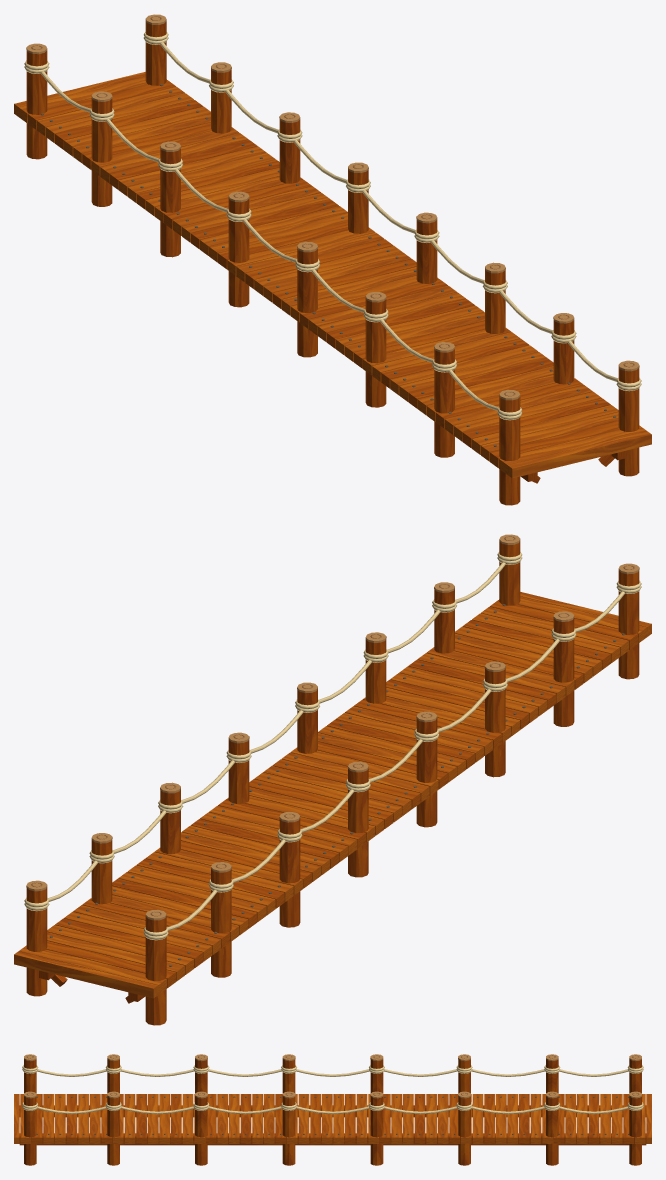
The model's file is wooden-bridge-11.gltf.
3 renders of one model, top to bottom at view 1: azimuth 30°, elevation 25°; view 2: azimuth 150°, elevation 25°; view 3: azimuth 270°, elevation 25°, orthographic. The views are drawn at different scales.
Parts seen in each view (by area): view 1: wooden-bridge-11; view 2: wooden-bridge-11; view 3: wooden-bridge-11.
Part boxes in pixels (box(x1,y1,x2,y2)): wooden-bridge-11: box(14, 14, 651, 505); wooden-bridge-11: box(14, 534, 651, 1025); wooden-bridge-11: box(14, 1054, 651, 1165).
Size of the model in its own units: 1.8 by 1.31 by 11.
Materials: 2 (1 with a texture image).
